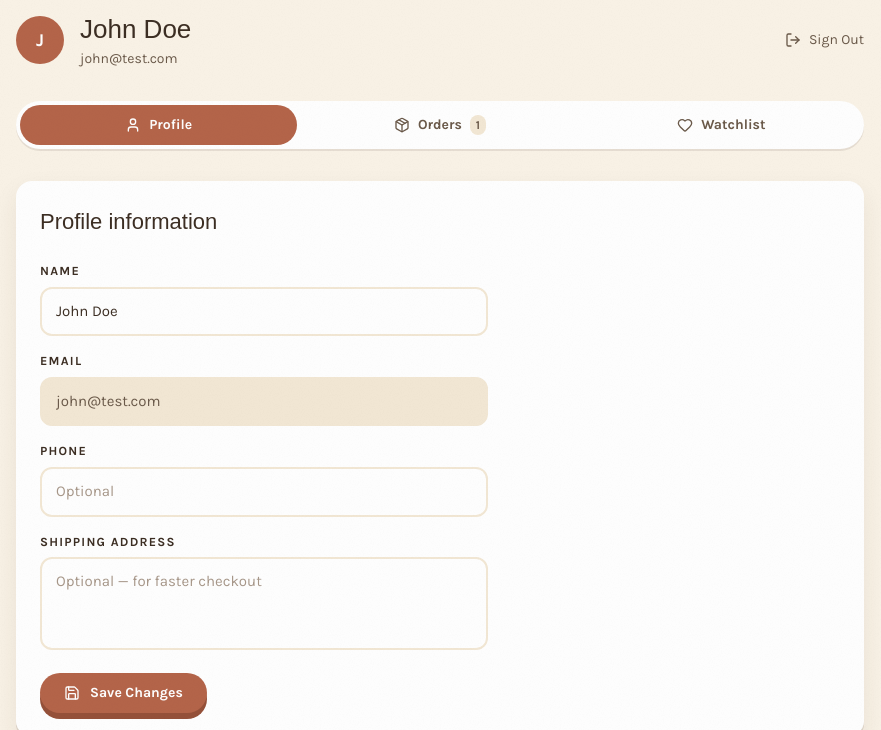
Test: AccountPage › shows order history in Orders tab
The image size is (881, 730).
Click the button "Orders 1".
click(440, 125)  # box [301,105,579,145]
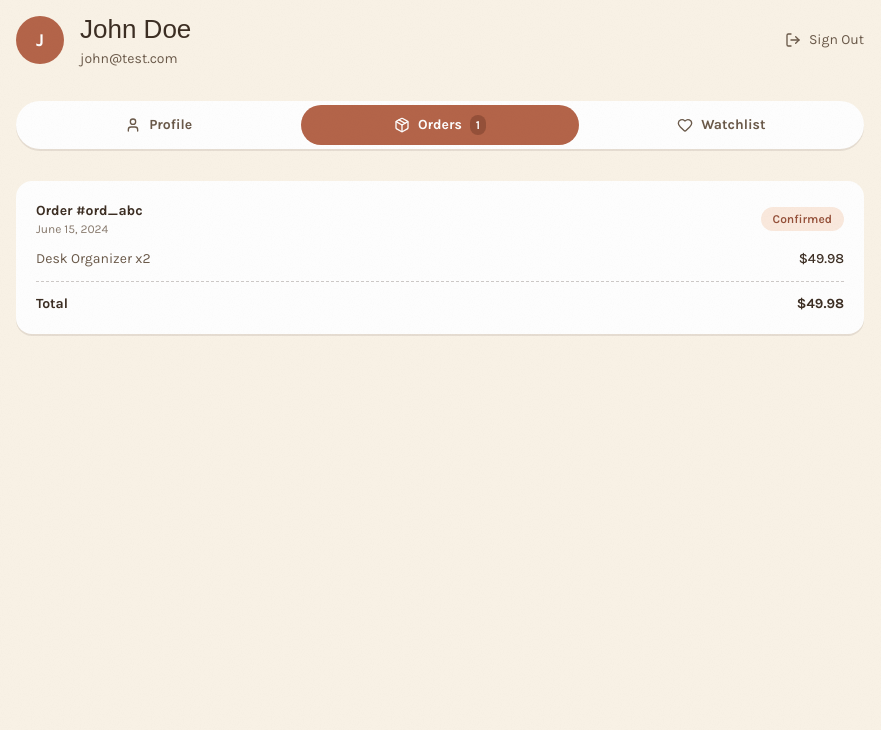
Expected: the text "Order #ord_abc" is shown, [36,201,143,221]
Expected: the text "Confirmed" is shown, [761,207,844,231]
Expected: the text "Desk Organizer x2" is shown, [36,249,151,269]
